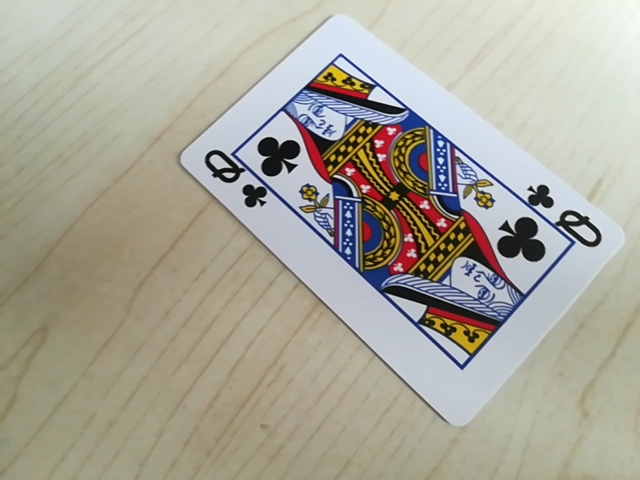mh q: (524, 180, 603, 242), (196, 164, 273, 210)
